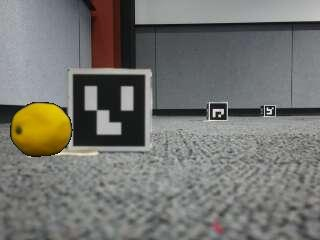lemon: (11, 104, 71, 157)
